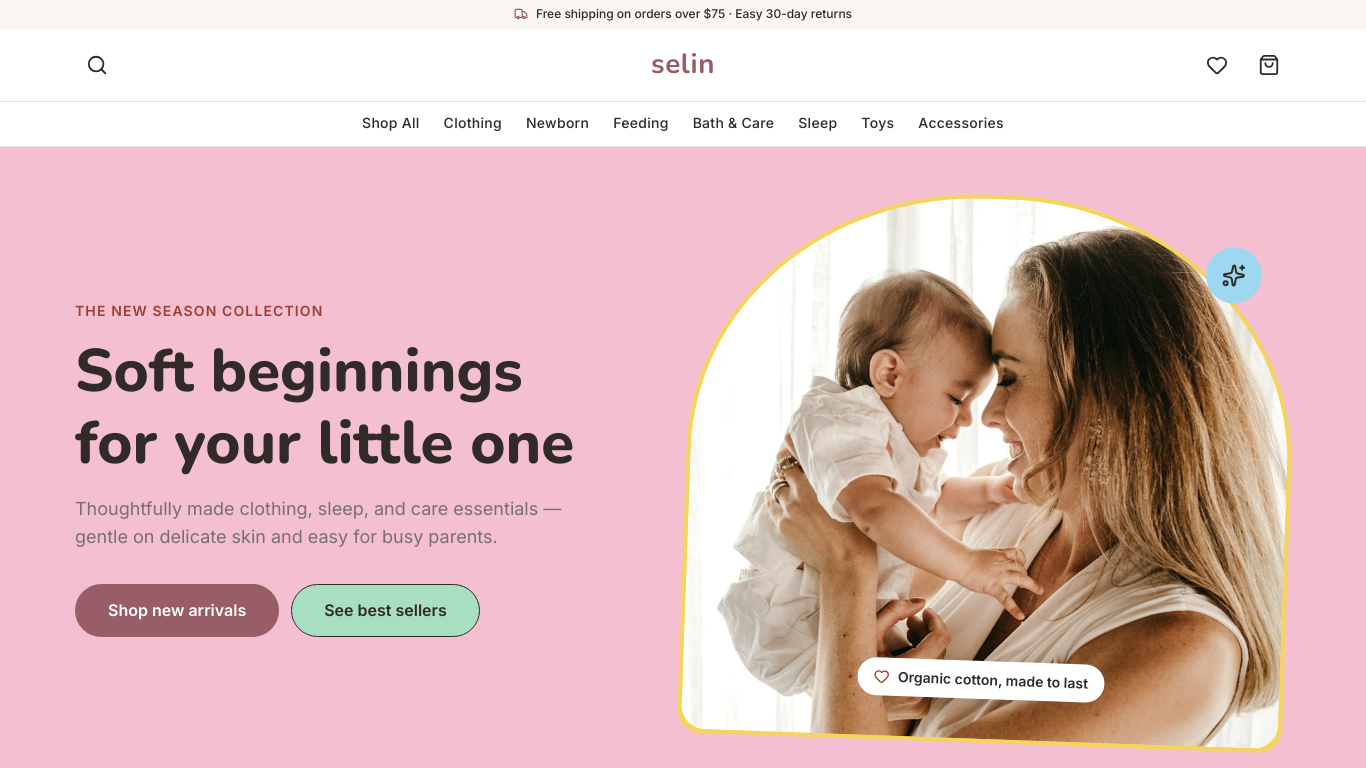
Test case: HomePage › shows a "coming soon" page for pages not built yet
Click the link named "Shopping cart".
click(1269, 65)  # box [1258,54,1280,76]
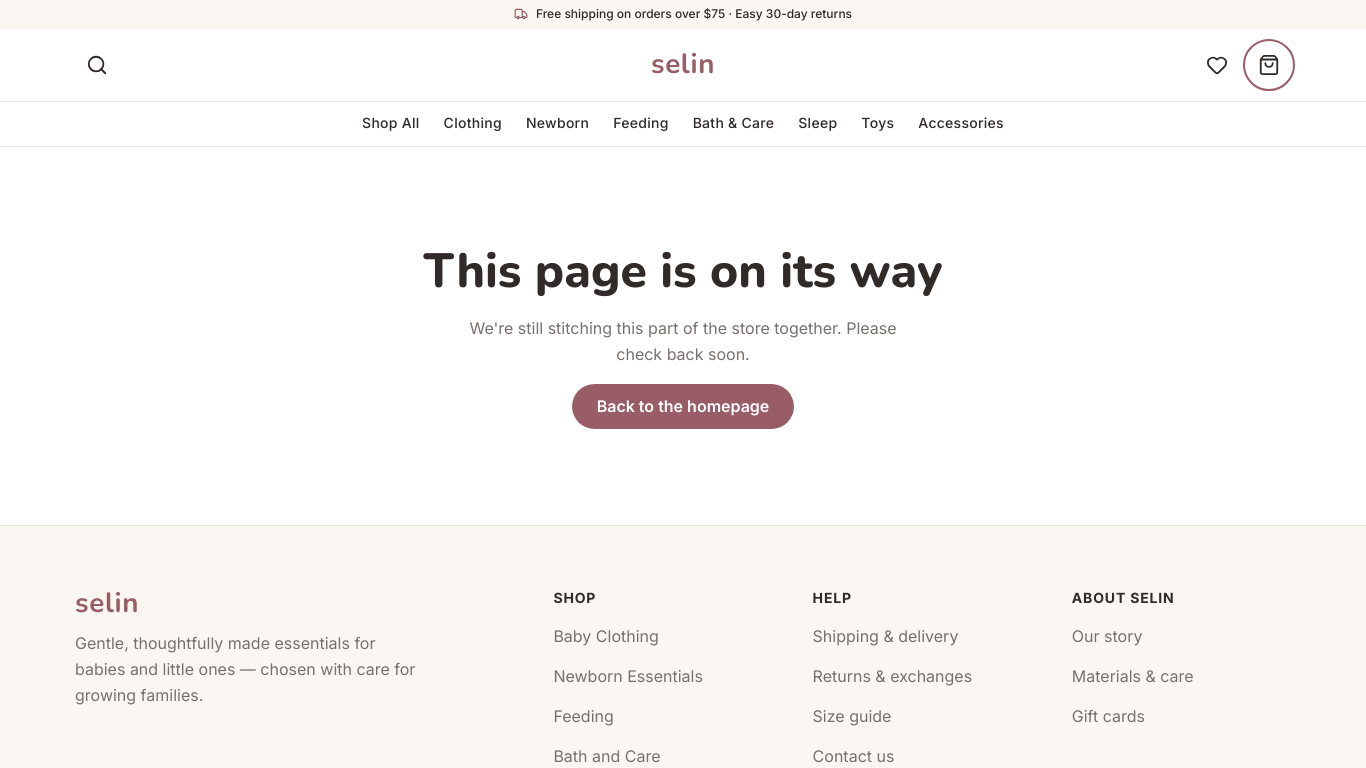
Now the heading "This page is on its way" is shown, box [424,243,943,300]
